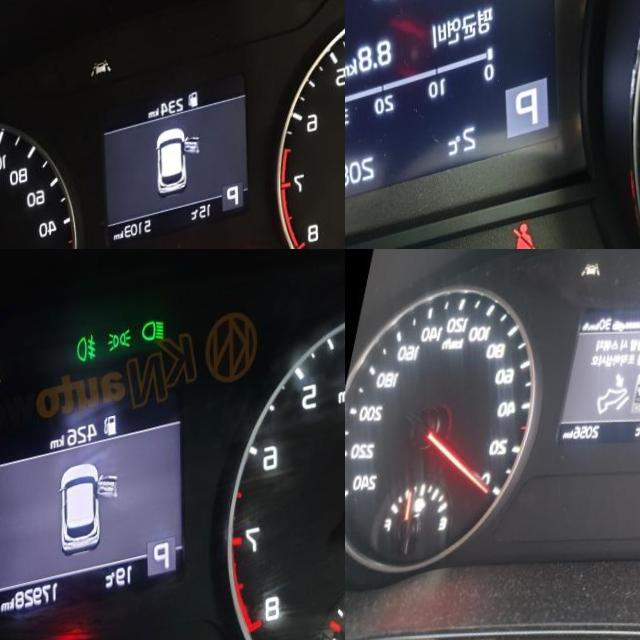FrontFogLight: (76, 347, 96, 379)
LaneCenteringOff: (581, 270, 603, 292), (91, 68, 111, 88)
Low beam: (141, 336, 164, 363)
SideLamp: (108, 344, 131, 370)
